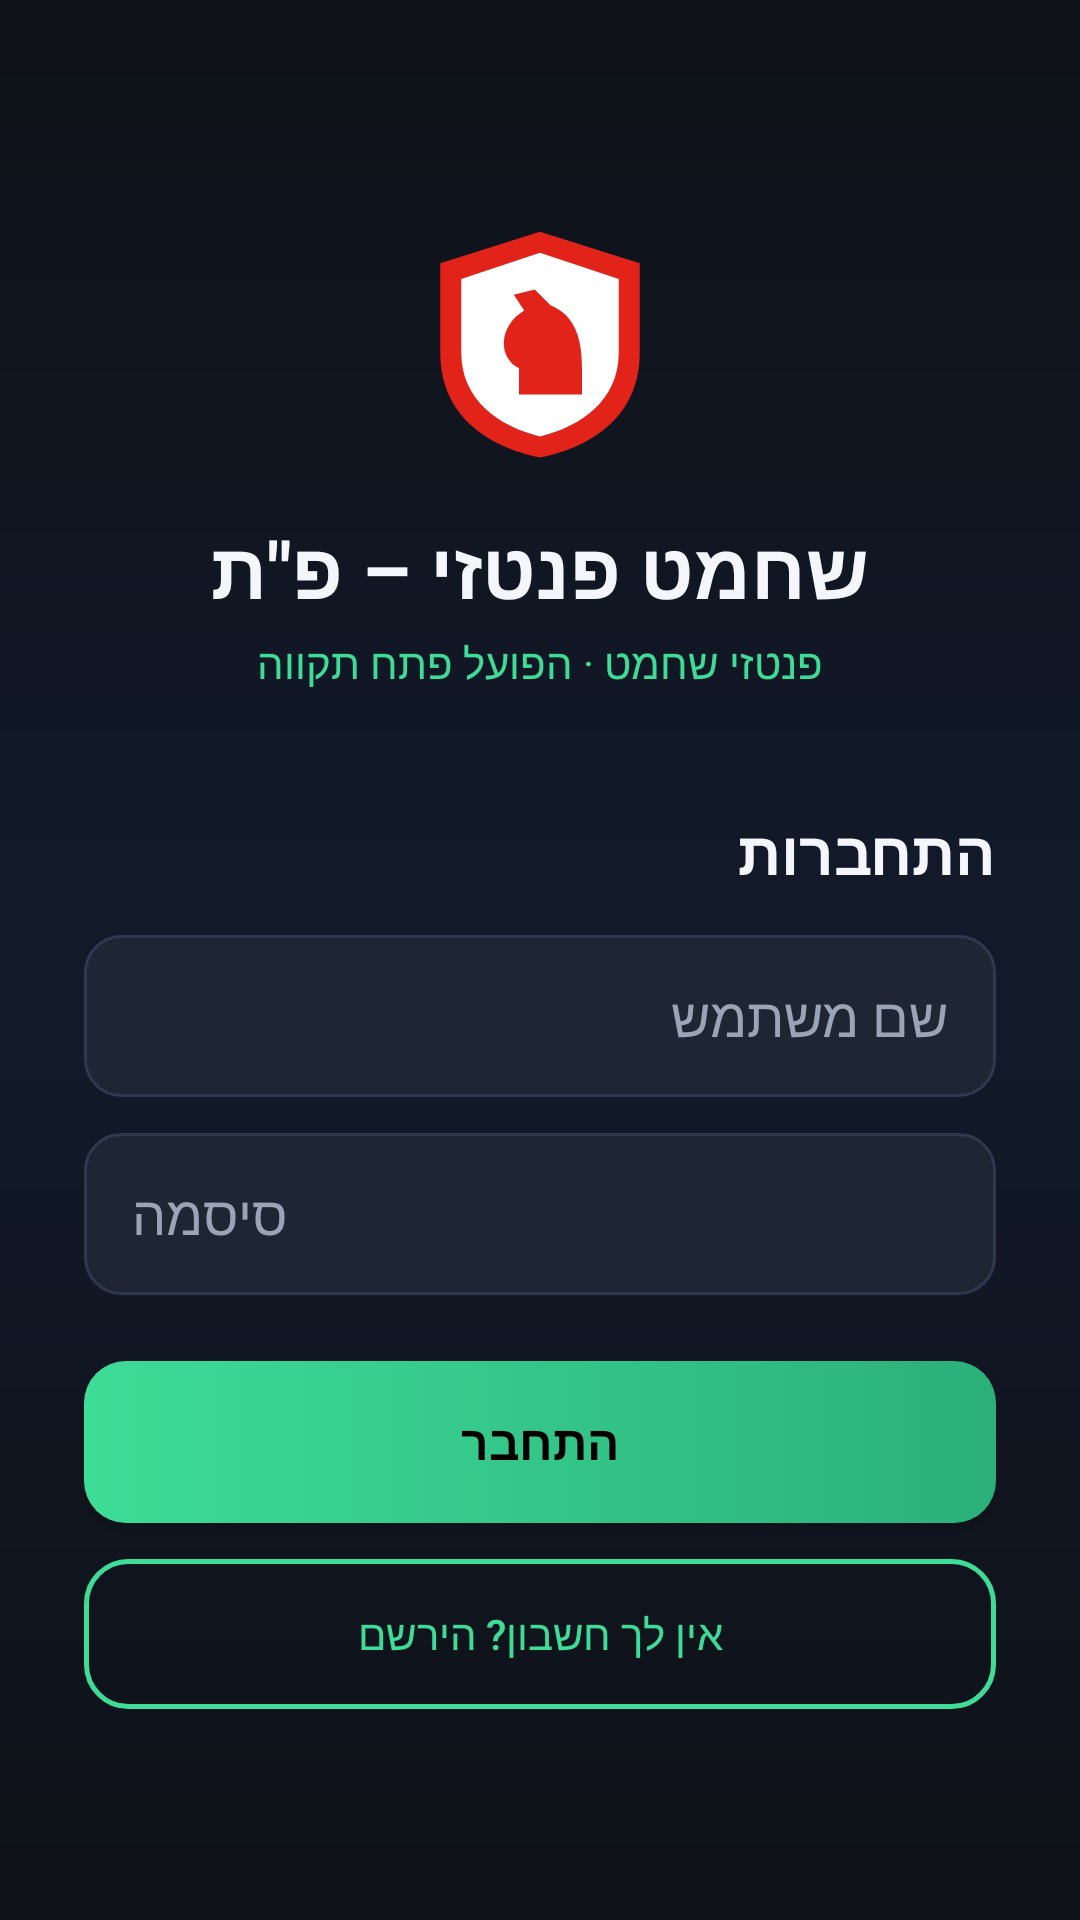

Named icons in this screenshot (1080 × 1920) and their bounding boxes, [left=x1, top=y1, right=x2, bottom=y2]:
crest hpt: [left=440, top=232, right=640, bottom=458]
